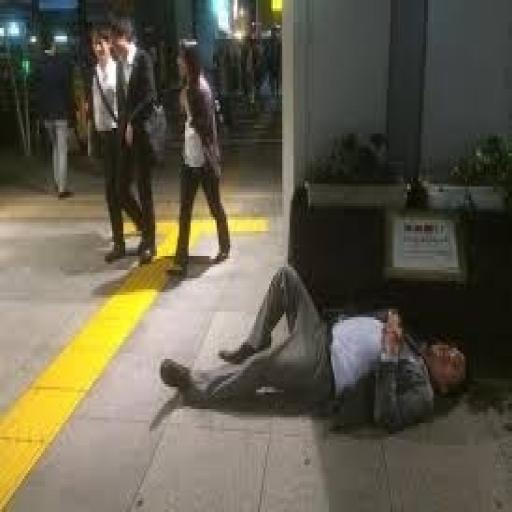sleeping: (157, 259, 471, 434)
